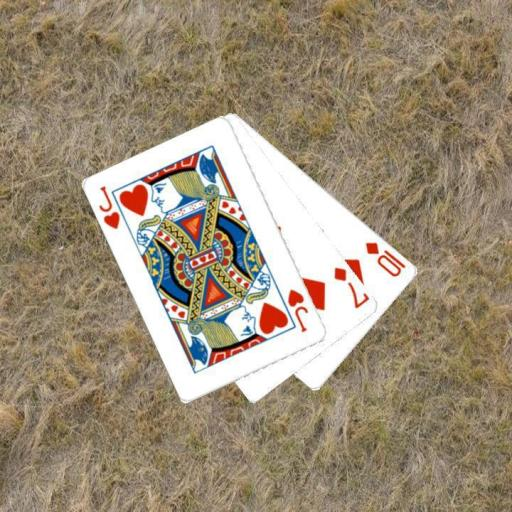card-corner: (330, 263, 370, 311), (362, 238, 408, 279), (284, 286, 310, 334), (96, 183, 122, 231)
